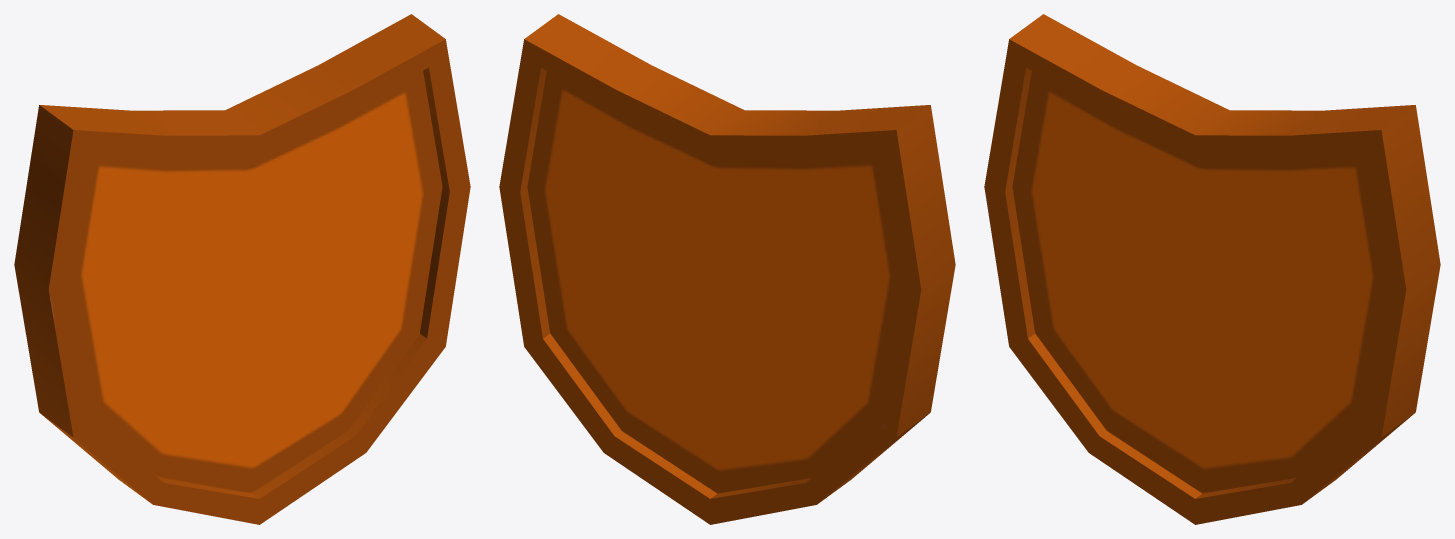
The model's file is PickUp_003_KnockbackShield.fbx.
3 views of the same model, side by side, from view 1: azimuth 30°, elevation 25°; view 2: azimuth 150°, elevation 25°; view 3: azimuth 330°, elevation 25° (orthographic).
Visible parts, largest first — view 1: PickUp_003_KnockbackShield; view 2: PickUp_003_KnockbackShield; view 3: PickUp_003_KnockbackShield.
Boxes of the visible parts, x1=… form: PickUp_003_KnockbackShield: x1=14, y1=14, x2=470, y2=524; PickUp_003_KnockbackShield: x1=499, y1=14, x2=955, y2=524; PickUp_003_KnockbackShield: x1=984, y1=14, x2=1440, y2=524.
Bounding box in the file's own units: 151 × 151 × 21.31.
